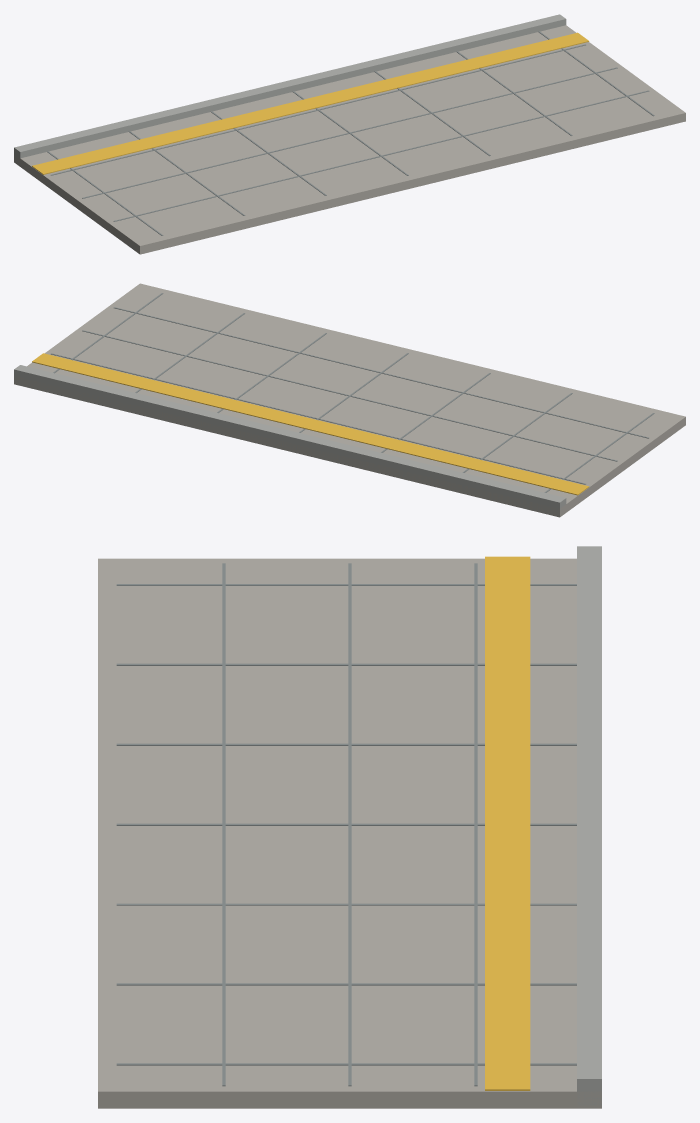
Rendered from sidewalk_10m.glb.
3 renders of one model, top to bottom at view 1: azimuth 30°, elevation 25°; view 2: azimuth 150°, elevation 25°; view 3: azimuth 270°, elevation 25°, orthographic. The views are drawn at different scales.
Visible parts, largest first — view 1: sidewalk_10m; view 2: sidewalk_10m; view 3: sidewalk_10m.
Boxes of the visible parts, x1,y1,x2,y2 form: sidewalk_10m: (14,14,685,254); sidewalk_10m: (14,283,685,517); sidewalk_10m: (98,546,601,1108).
Size of the model in its own units: 10 by 0.26 by 4.
